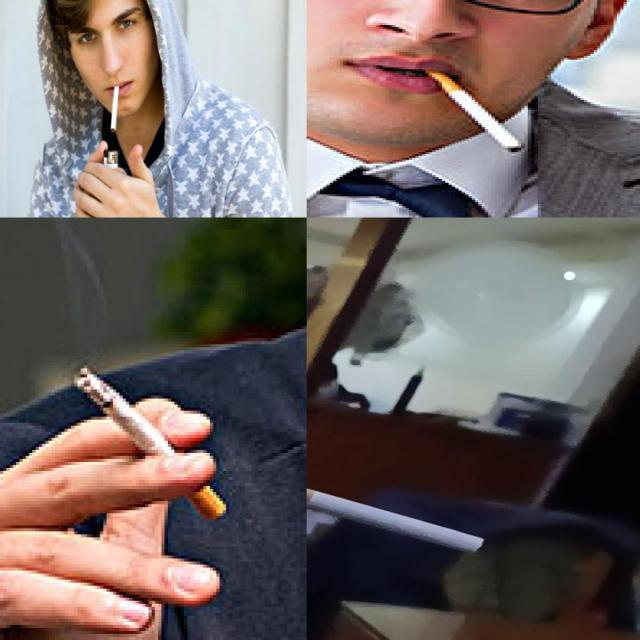smoking: (70, 364, 228, 521), (306, 472, 489, 556), (422, 66, 531, 150), (110, 86, 119, 132)
